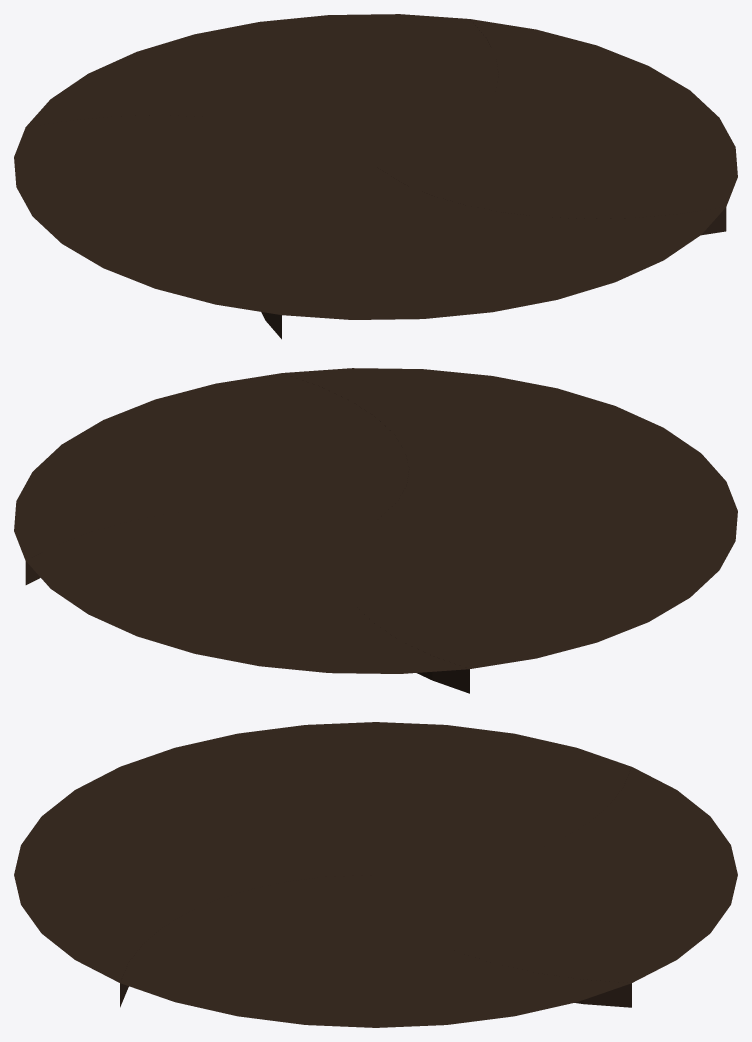
Rendered from Iris Door.FBX.
The picture shows the model from 3 angles, top to bottom: view 1: azimuth 30°, elevation 25°; view 2: azimuth 150°, elevation 25°; view 3: azimuth 270°, elevation 25°; orthographic projection.
Parts seen in each view (by area): view 1: Iris Door Quadrant, Iris Door Quadrant003, Iris Door Quadrant002, Iris Door Quadrant001; view 2: Iris Door Quadrant002, Iris Door Quadrant, Iris Door Quadrant001, Iris Door Quadrant003; view 3: Iris Door Quadrant001, Iris Door Quadrant003, Iris Door Quadrant, Iris Door Quadrant002.
Boxes of the visible parts, x1,y1,x2,y2 form: Iris Door Quadrant: [253, 167, 726, 319]; Iris Door Quadrant003: [14, 115, 375, 339]; Iris Door Quadrant002: [25, 14, 498, 166]; Iris Door Quadrant001: [376, 19, 737, 218]; Iris Door Quadrant002: [25, 507, 469, 693]; Iris Door Quadrant: [282, 368, 725, 535]; Iris Door Quadrant001: [14, 373, 409, 560]; Iris Door Quadrant003: [342, 481, 737, 668]; Iris Door Quadrant001: [120, 875, 631, 1027]; Iris Door Quadrant003: [120, 722, 631, 874]; Iris Door Quadrant: [14, 767, 375, 982]; Iris Door Quadrant002: [376, 767, 737, 982].
Size of the model in its own units: 0.16 by 0.006 by 0.16.
